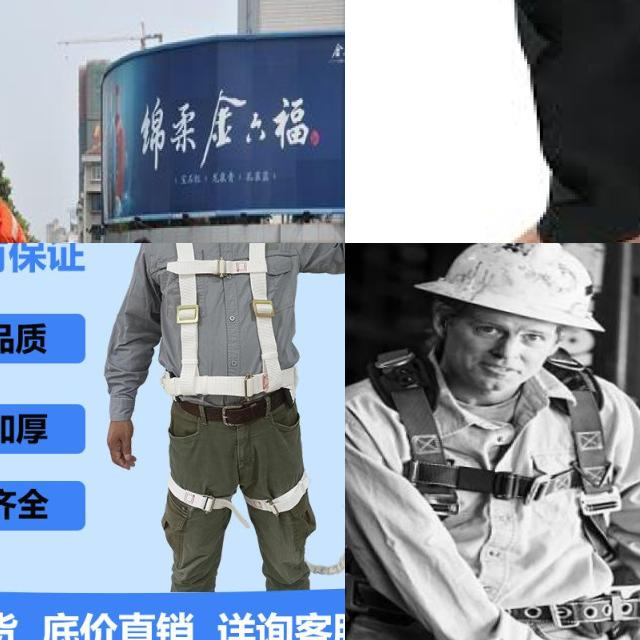Harness: (369, 349, 622, 516), (160, 243, 295, 432)
head_nohelmet: (123, 229, 157, 243)
person: (0, 214, 31, 243)
